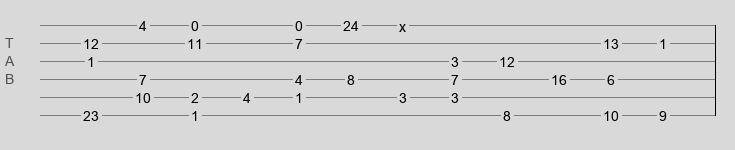0: (191, 18, 199, 28), (295, 18, 303, 28)
1: (87, 54, 95, 64), (191, 108, 199, 118), (295, 90, 303, 100), (659, 36, 667, 46)
10: (135, 90, 151, 100), (603, 108, 619, 118)
11: (187, 36, 203, 46)
12: (83, 36, 99, 46), (499, 54, 515, 64)
13: (603, 36, 619, 46)
16: (551, 72, 567, 82)
2: (191, 90, 199, 100)
23: (83, 108, 99, 118)
24: (343, 18, 359, 28)
3: (399, 90, 407, 100), (451, 54, 459, 64), (451, 90, 459, 100)
4: (139, 18, 147, 28), (243, 90, 251, 100), (295, 72, 303, 82)
6: (607, 72, 615, 82)
7: (139, 72, 147, 82), (295, 36, 303, 46), (451, 72, 459, 82)
8: (347, 72, 355, 82), (503, 108, 511, 118)
9: (659, 108, 667, 118)
x: (399, 19, 406, 27)
